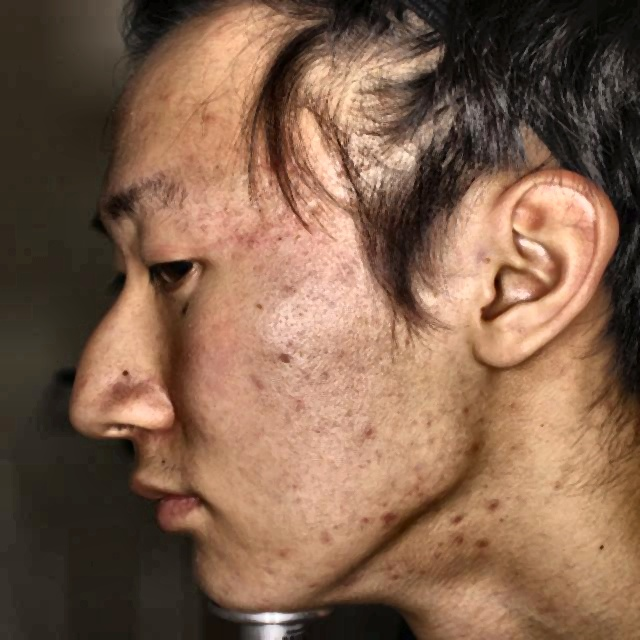pustule: (144, 86, 194, 112), (242, 237, 276, 262), (377, 505, 402, 533), (320, 526, 344, 552), (399, 476, 423, 502), (462, 438, 486, 461)
